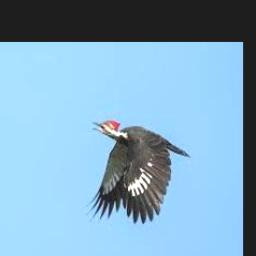Woodpecker: (86, 119, 190, 225)
